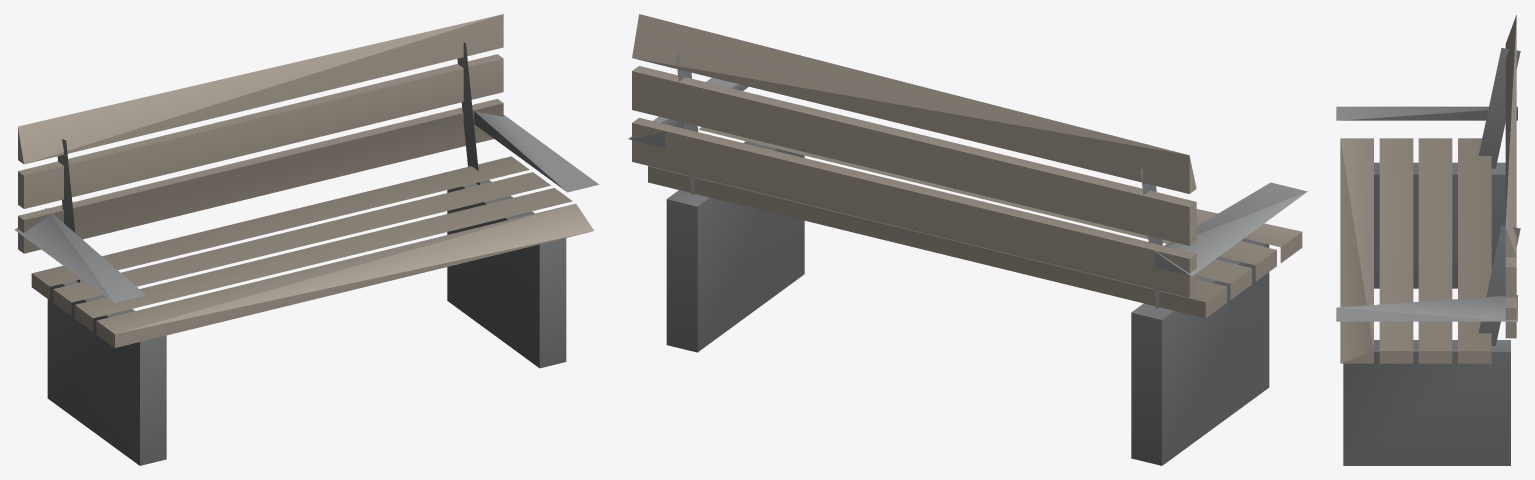
The model's file is bench.lod1.glb.
The picture shows the model from 3 angles, left to right: view 1: azimuth 30°, elevation 25°; view 2: azimuth 150°, elevation 25°; view 3: azimuth 270°, elevation 25°; orthographic projection. The views are drawn at different scales.
Bounding box in the file's own units: 1.82 × 0.99 × 0.6594.
